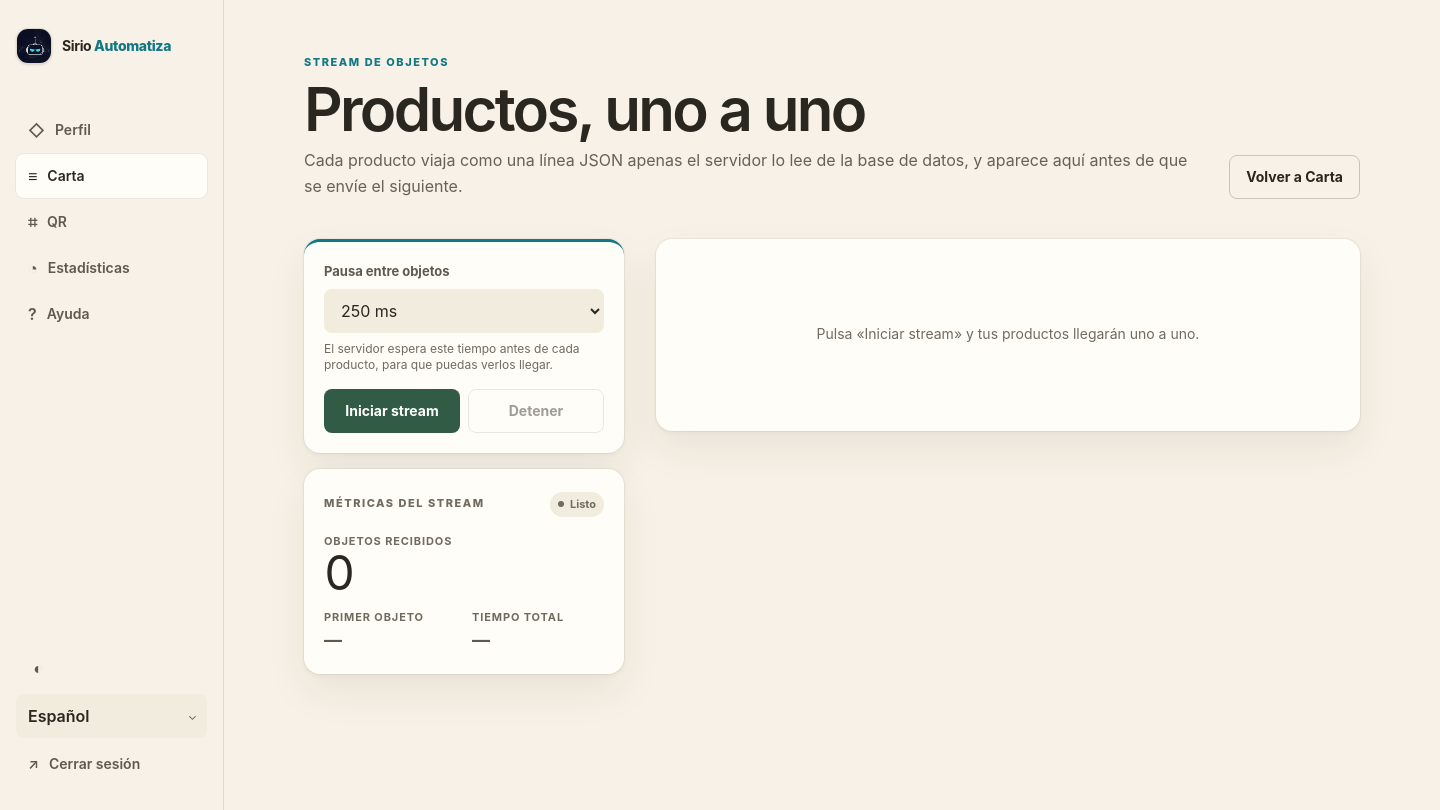
Scenario: ProductStreamViewer › shows the product photo from the owner image route
Click the button "Iniciar stream": (392, 411) left=324, top=389, right=460, bottom=433
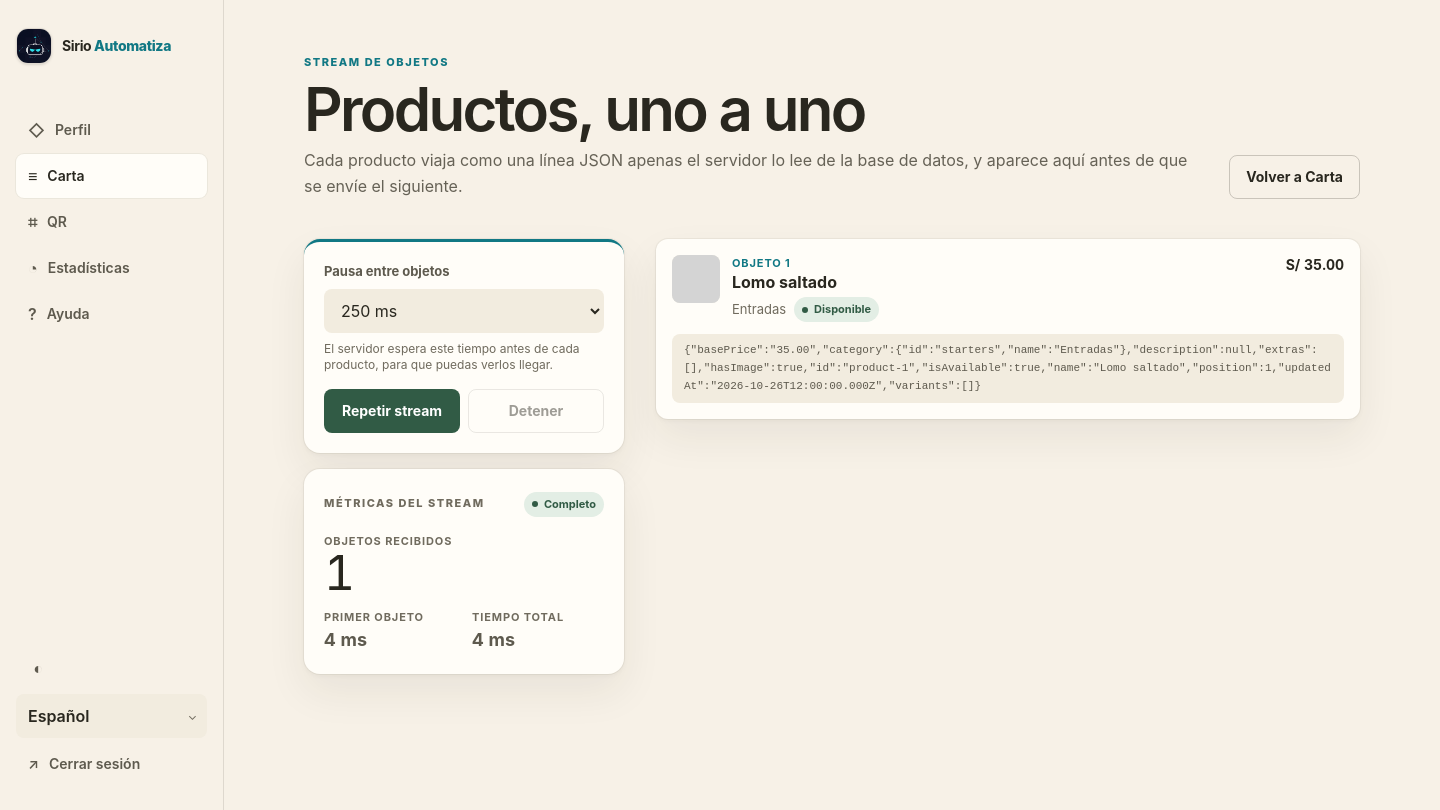
Check: the text "Lomo saltado" is shown, box left=732, top=272, right=837, bottom=292
